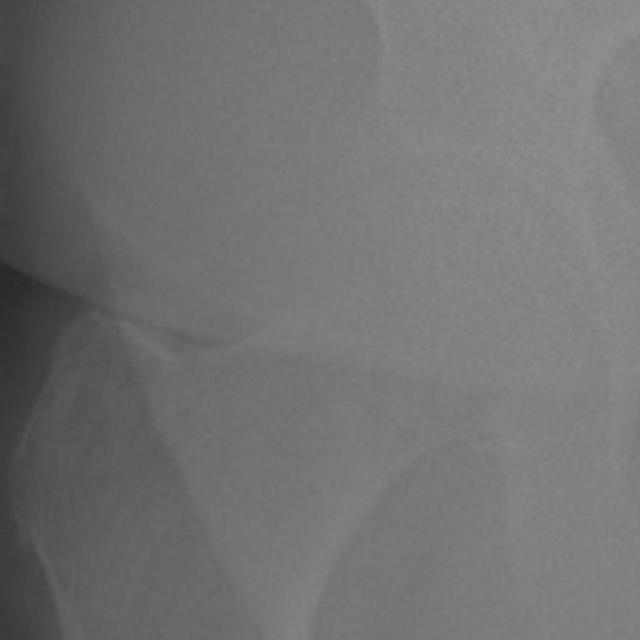Fitted_femural_head: (308, 172, 432, 308)
